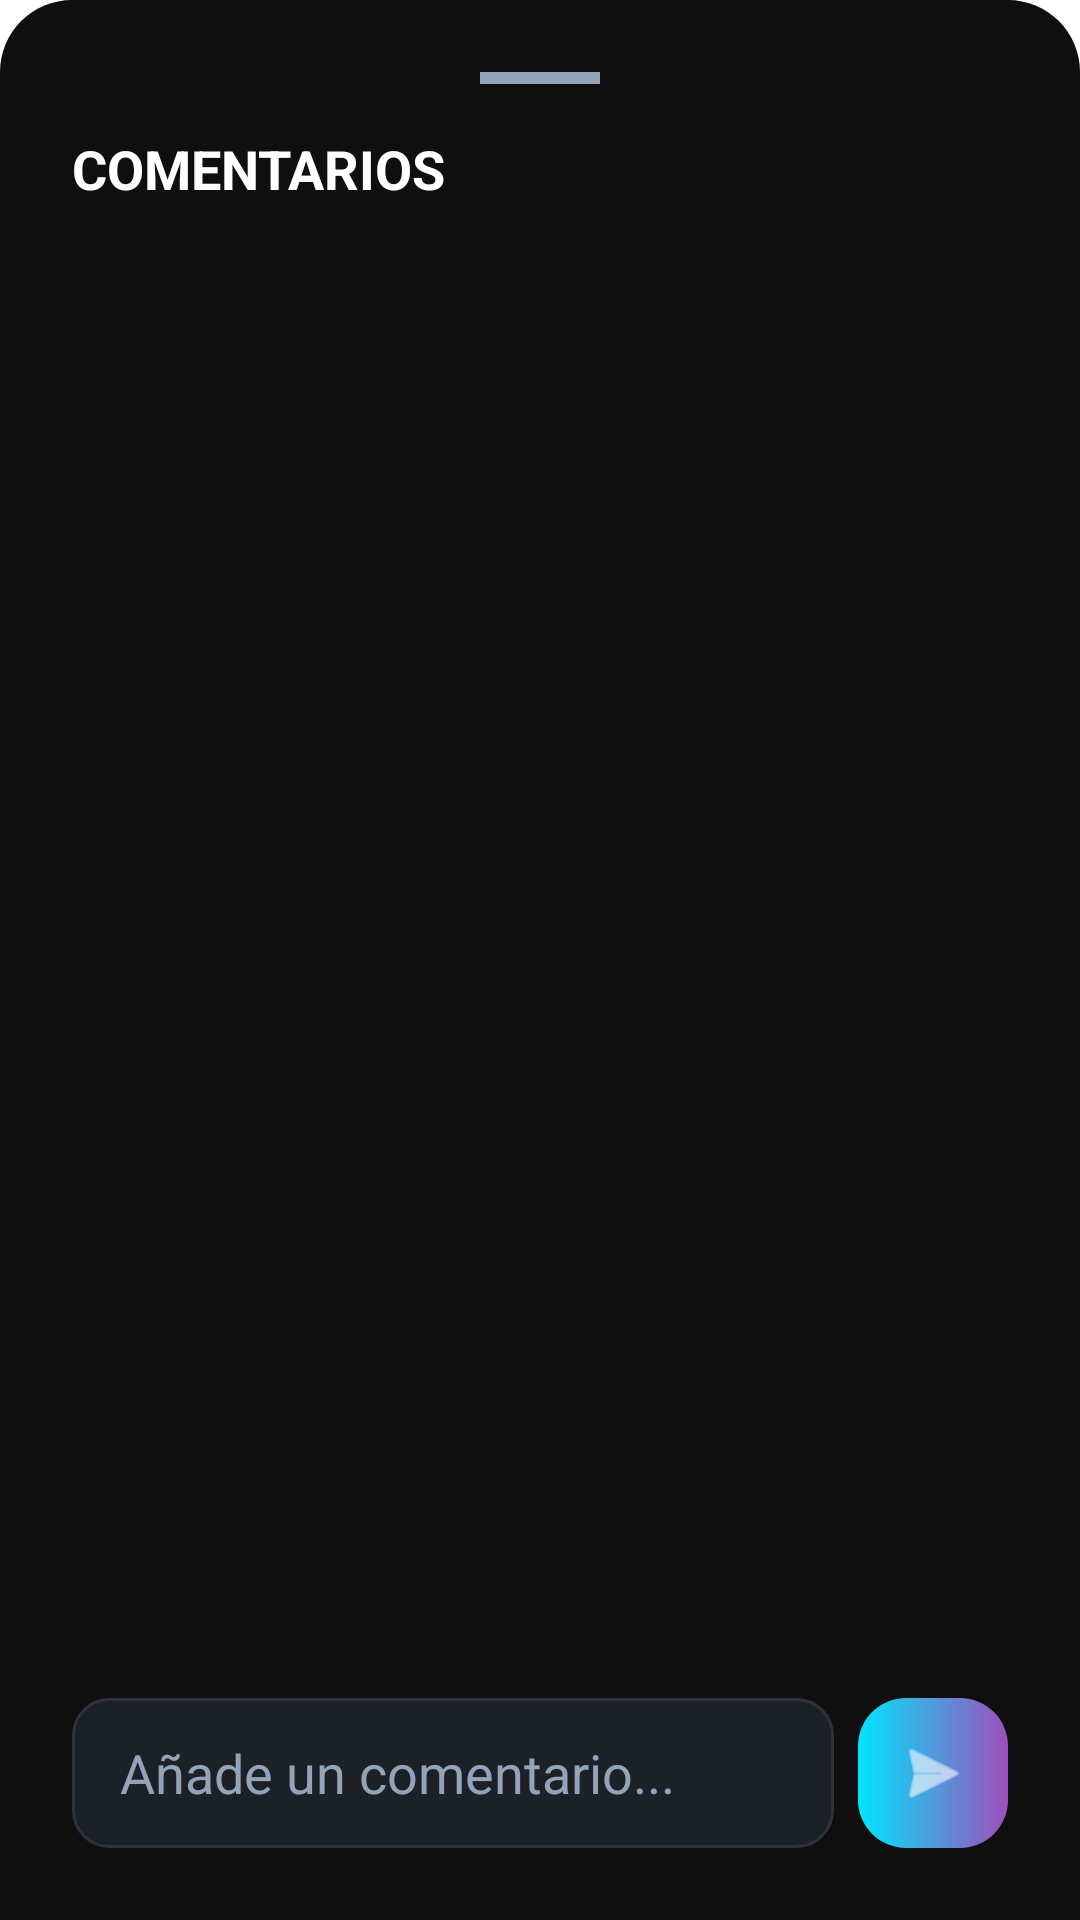

Icon bounding boxes for this 1080*1920 phone screenshot, format (x1, y1, x2, y2):
send: (858, 1698, 1008, 1848)
